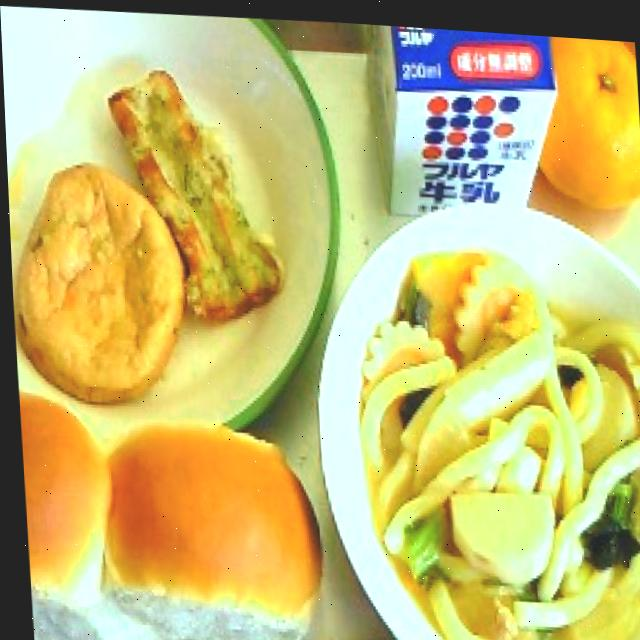熟制海鲜: (4, 126, 243, 420)
